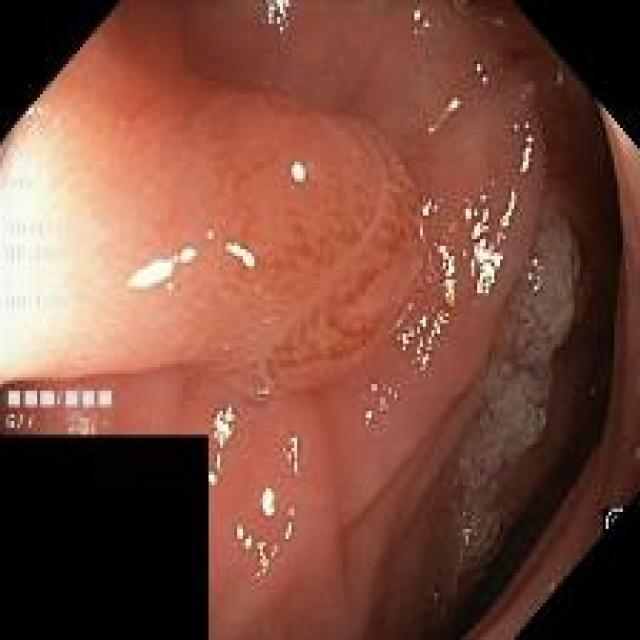Polyps: (0, 19, 426, 399)
